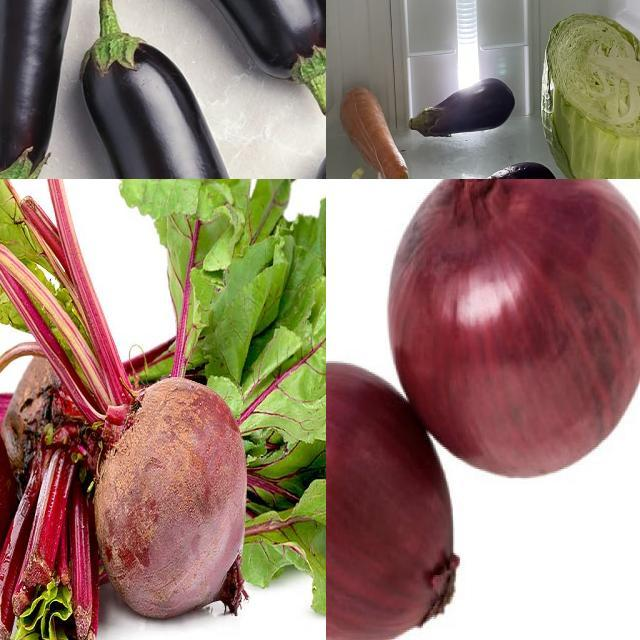beet: (105, 371, 247, 623)
cabbage: (542, 9, 640, 180)
carrot: (341, 87, 412, 180)
eggplant: (83, 1, 257, 180), (91, 1, 327, 117), (1, 1, 72, 180), (411, 76, 517, 138)
onion: (388, 180, 640, 481), (327, 356, 462, 640)
